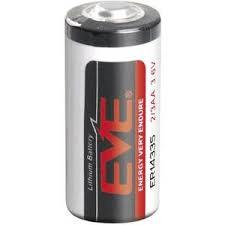battery: (36, 0, 187, 225)
